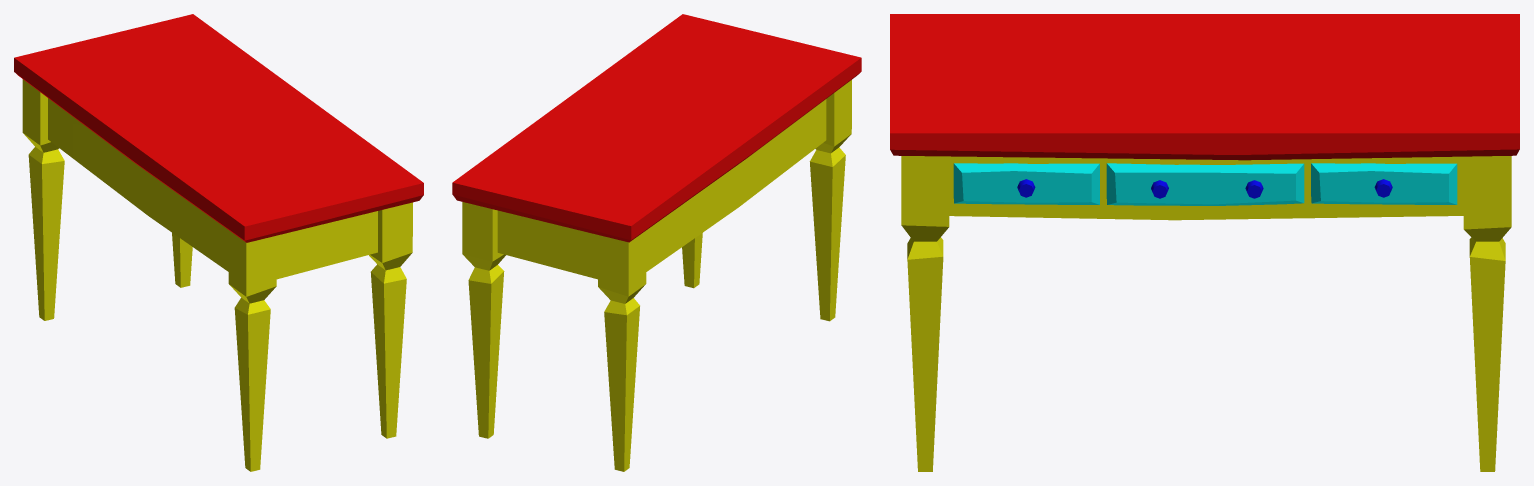
The model's file is LivingRoom_HighTable.fbx.
3 renders of one model, left to right at view 1: azimuth 30°, elevation 25°; view 2: azimuth 150°, elevation 25°; view 3: azimuth 270°, elevation 25°, orthographic. The views are drawn at different scales.
Parts seen in each view (by area): view 1: LivingRoom_HighTable; view 2: LivingRoom_HighTable; view 3: LivingRoom_HighTable.
Part boxes in pixels (x1=…): LivingRoom_HighTable: x1=14, y1=14, x2=423, y2=471; LivingRoom_HighTable: x1=452, y1=14, x2=861, y2=471; LivingRoom_HighTable: x1=890, y1=14, x2=1519, y2=471.
Size of the model in its own units: 90.69 by 124 by 202.
